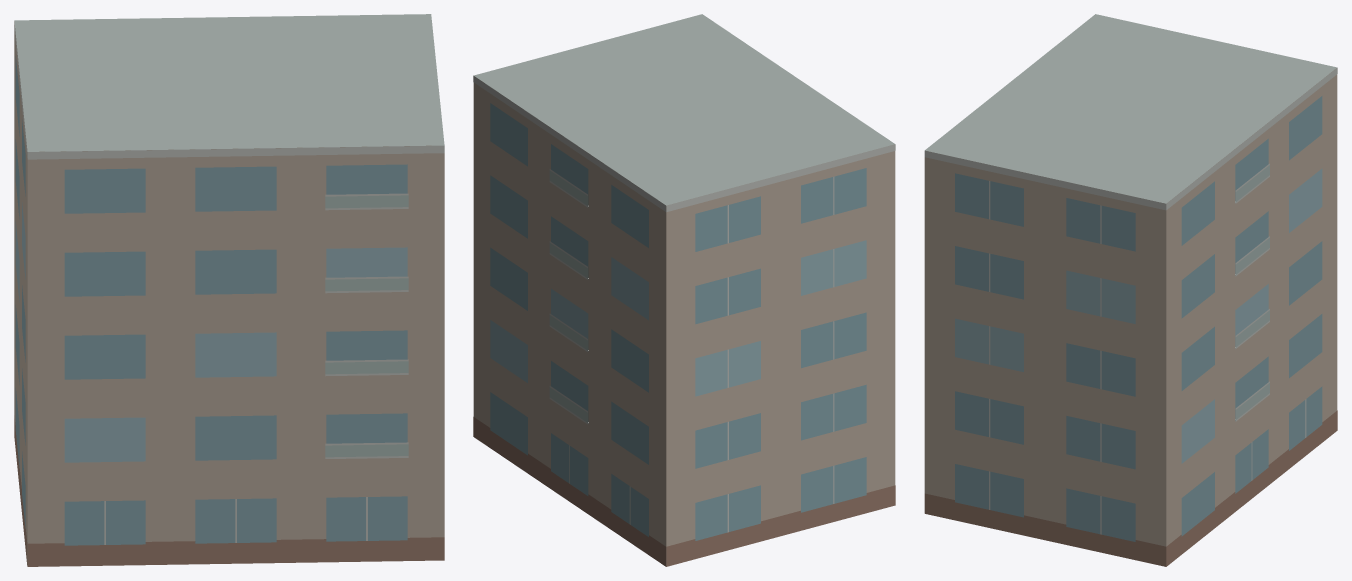
File: survey-upis-32870055.glb
3 renders of one model, left to right at view 1: azimuth 30°, elevation 25°; view 2: azimuth 150°, elevation 25°; view 3: azimuth 270°, elevation 25°, orthographic. The views are drawn at different scales.
Parts seen in each view (by area): view 1: survey-upis-32870055.tmp; view 2: survey-upis-32870055.tmp; view 3: survey-upis-32870055.tmp.
Boxes of the visible parts, <box> form: survey-upis-32870055.tmp: <box>14,14,444,566</box>; survey-upis-32870055.tmp: <box>473,14,895,566</box>; survey-upis-32870055.tmp: <box>924,14,1337,566</box>.
Bounding box in the file's own units: 14.8 × 13.2 × 13.61.
